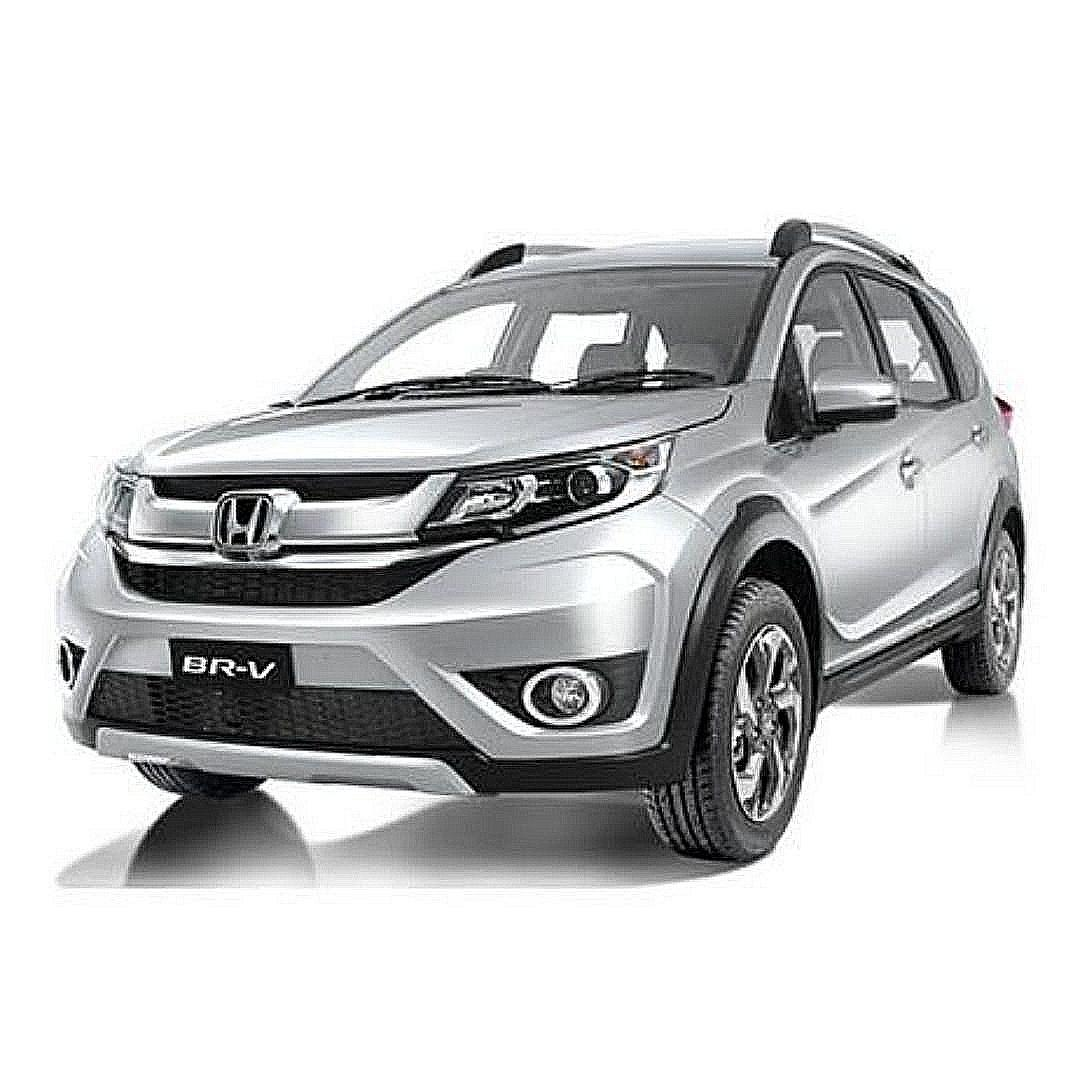Car hood: (100, 380, 747, 486)
Fender - -F-L-: (669, 374, 847, 711)
Front bumper: (44, 528, 747, 822)
Headlight - -L-: (414, 418, 687, 547)
Headlight - -R-: (84, 445, 166, 562)
Passenger-s door - -F-L-: (734, 241, 932, 659)
Passenger-s door - -R-L-: (914, 238, 1005, 622)
Rear light - -L-: (987, 391, 1029, 444)
Side bumper - -L-: (807, 565, 1002, 734)
Side mirror - -L-: (794, 358, 908, 465)
